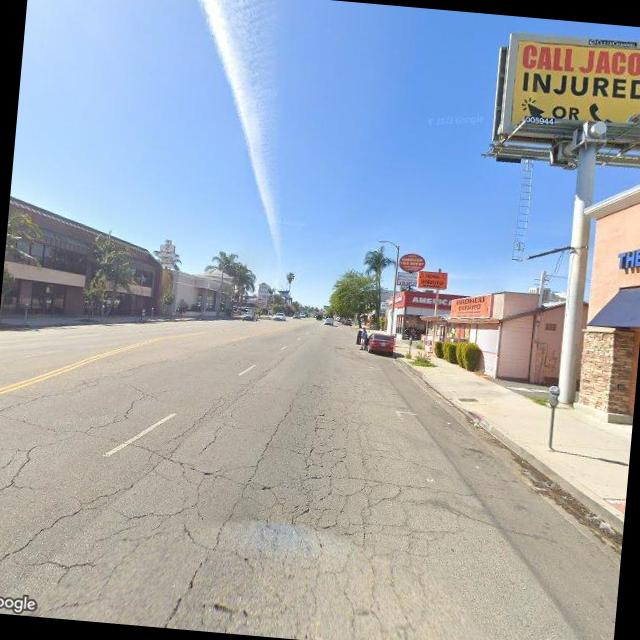crack: (0, 352, 467, 640)
